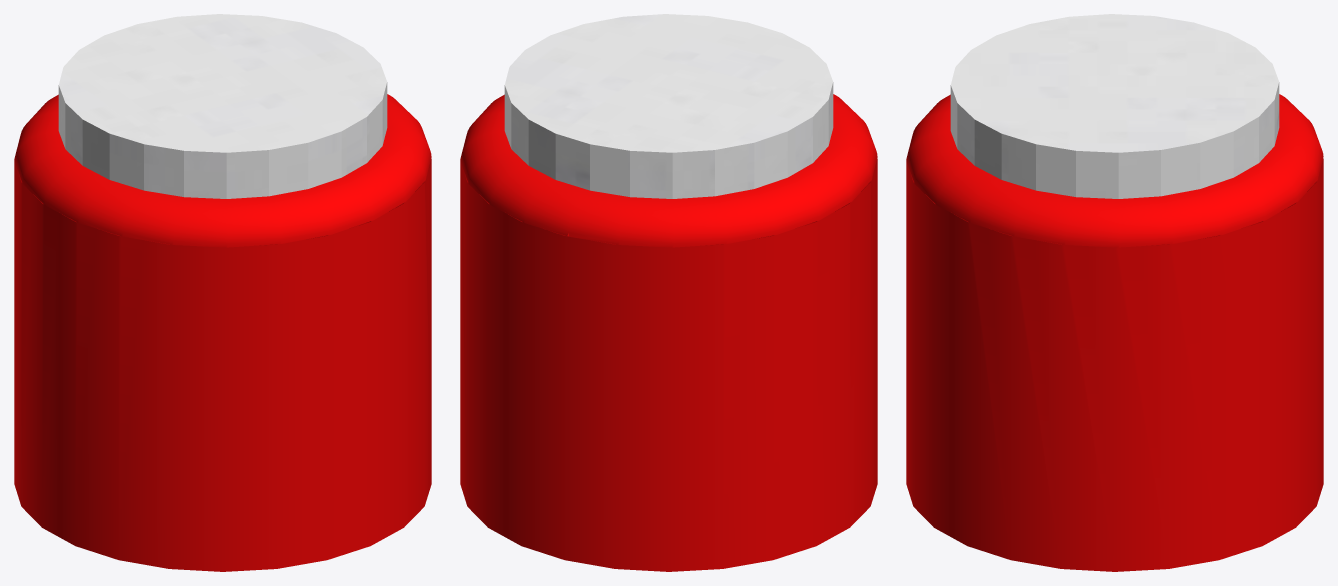
File: RemedioVermelho.dae
3 views of the same model, side by side, from view 1: azimuth 30°, elevation 25°; view 2: azimuth 150°, elevation 25°; view 3: azimuth 270°, elevation 25° (orthographic).
Visible parts, largest first — view 1: instance_0 (×3); view 2: instance_0 (×3); view 3: instance_0 (×3).
Part boxes in pixels (x1,y1,x2,y2): instance_0 (×3): (14, 14, 431, 571); instance_0 (×3): (460, 14, 877, 571); instance_0 (×3): (906, 14, 1323, 571).
Bounding box in the file's own units: 2.93 × 2.93 × 3.1.
Materials: 2 (1 with a texture image).
